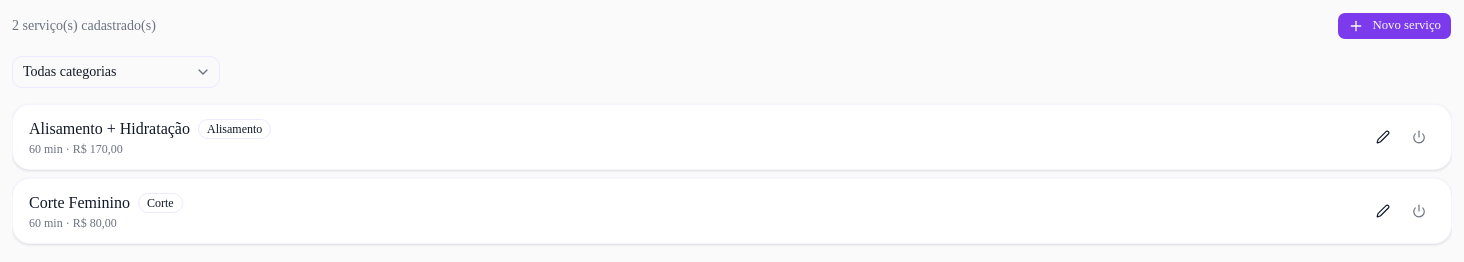
ServiceCatalog › filtra a lista ao selecionar uma categoria
Click the dropdown at (116, 72), box [12,56,220,88]
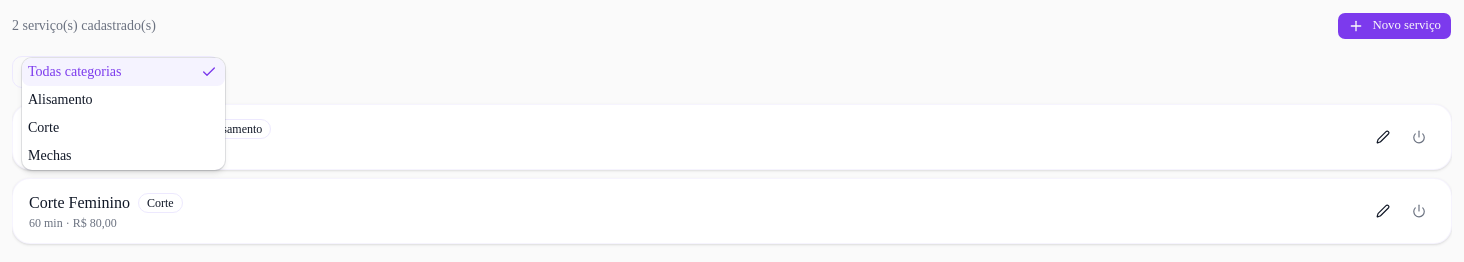
Click the option "Corte" at (44, 128), box [28,120,59,135]
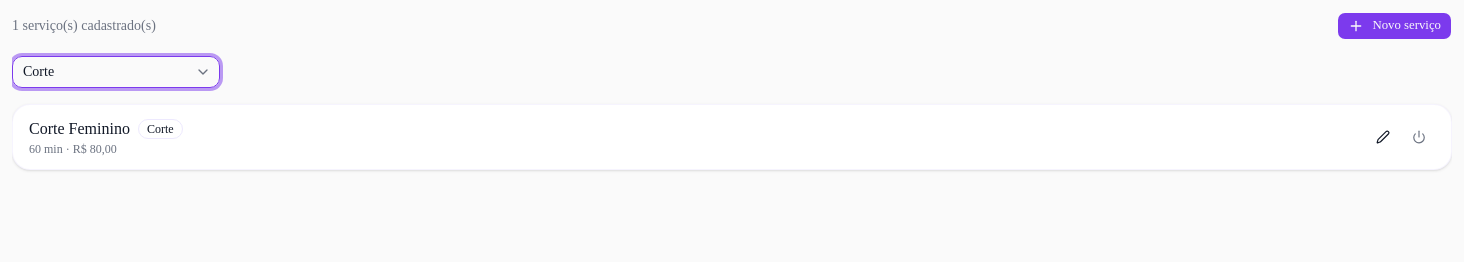
Expected: the text "Corte Feminino" is shown, [29,117,130,141]
Expected: the text "Alisamento + Hidratação" is gone
Expected: the text "1 serviço(s) cadastrado(s)" is shown, [12,16,156,36]
